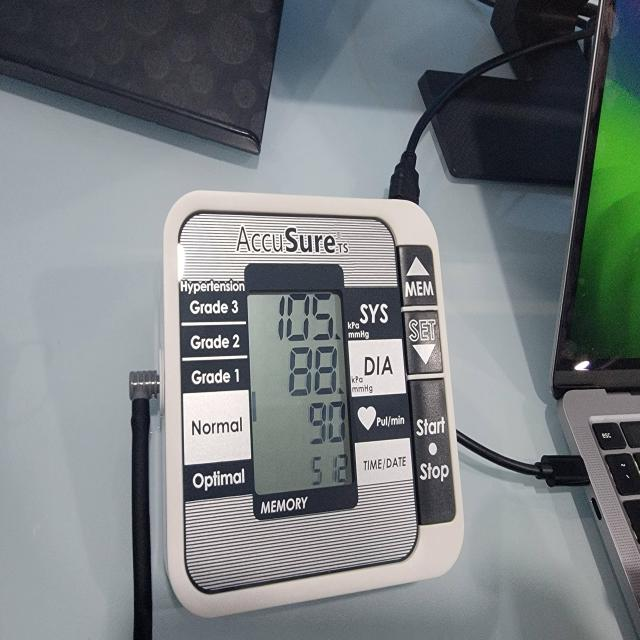bp: (159, 192, 464, 621)
